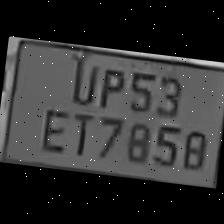3: (152, 70, 185, 118)
5: (121, 65, 157, 113), (148, 119, 182, 168)
7: (88, 110, 124, 163)
8: (119, 116, 152, 166), (176, 124, 208, 172)
E: (34, 102, 71, 156)
P: (92, 60, 128, 111)
T: (64, 106, 96, 158)
U: (63, 51, 101, 108)
